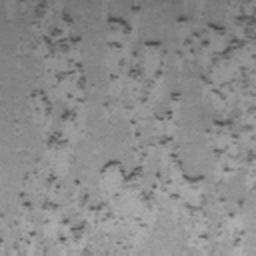Oxide scale of temperature system: (41, 4, 211, 256), (175, 0, 256, 256), (31, 27, 87, 151), (13, 201, 36, 256), (31, 0, 47, 29), (61, 12, 73, 24), (47, 174, 56, 182), (238, 198, 244, 207), (18, 191, 26, 197)
